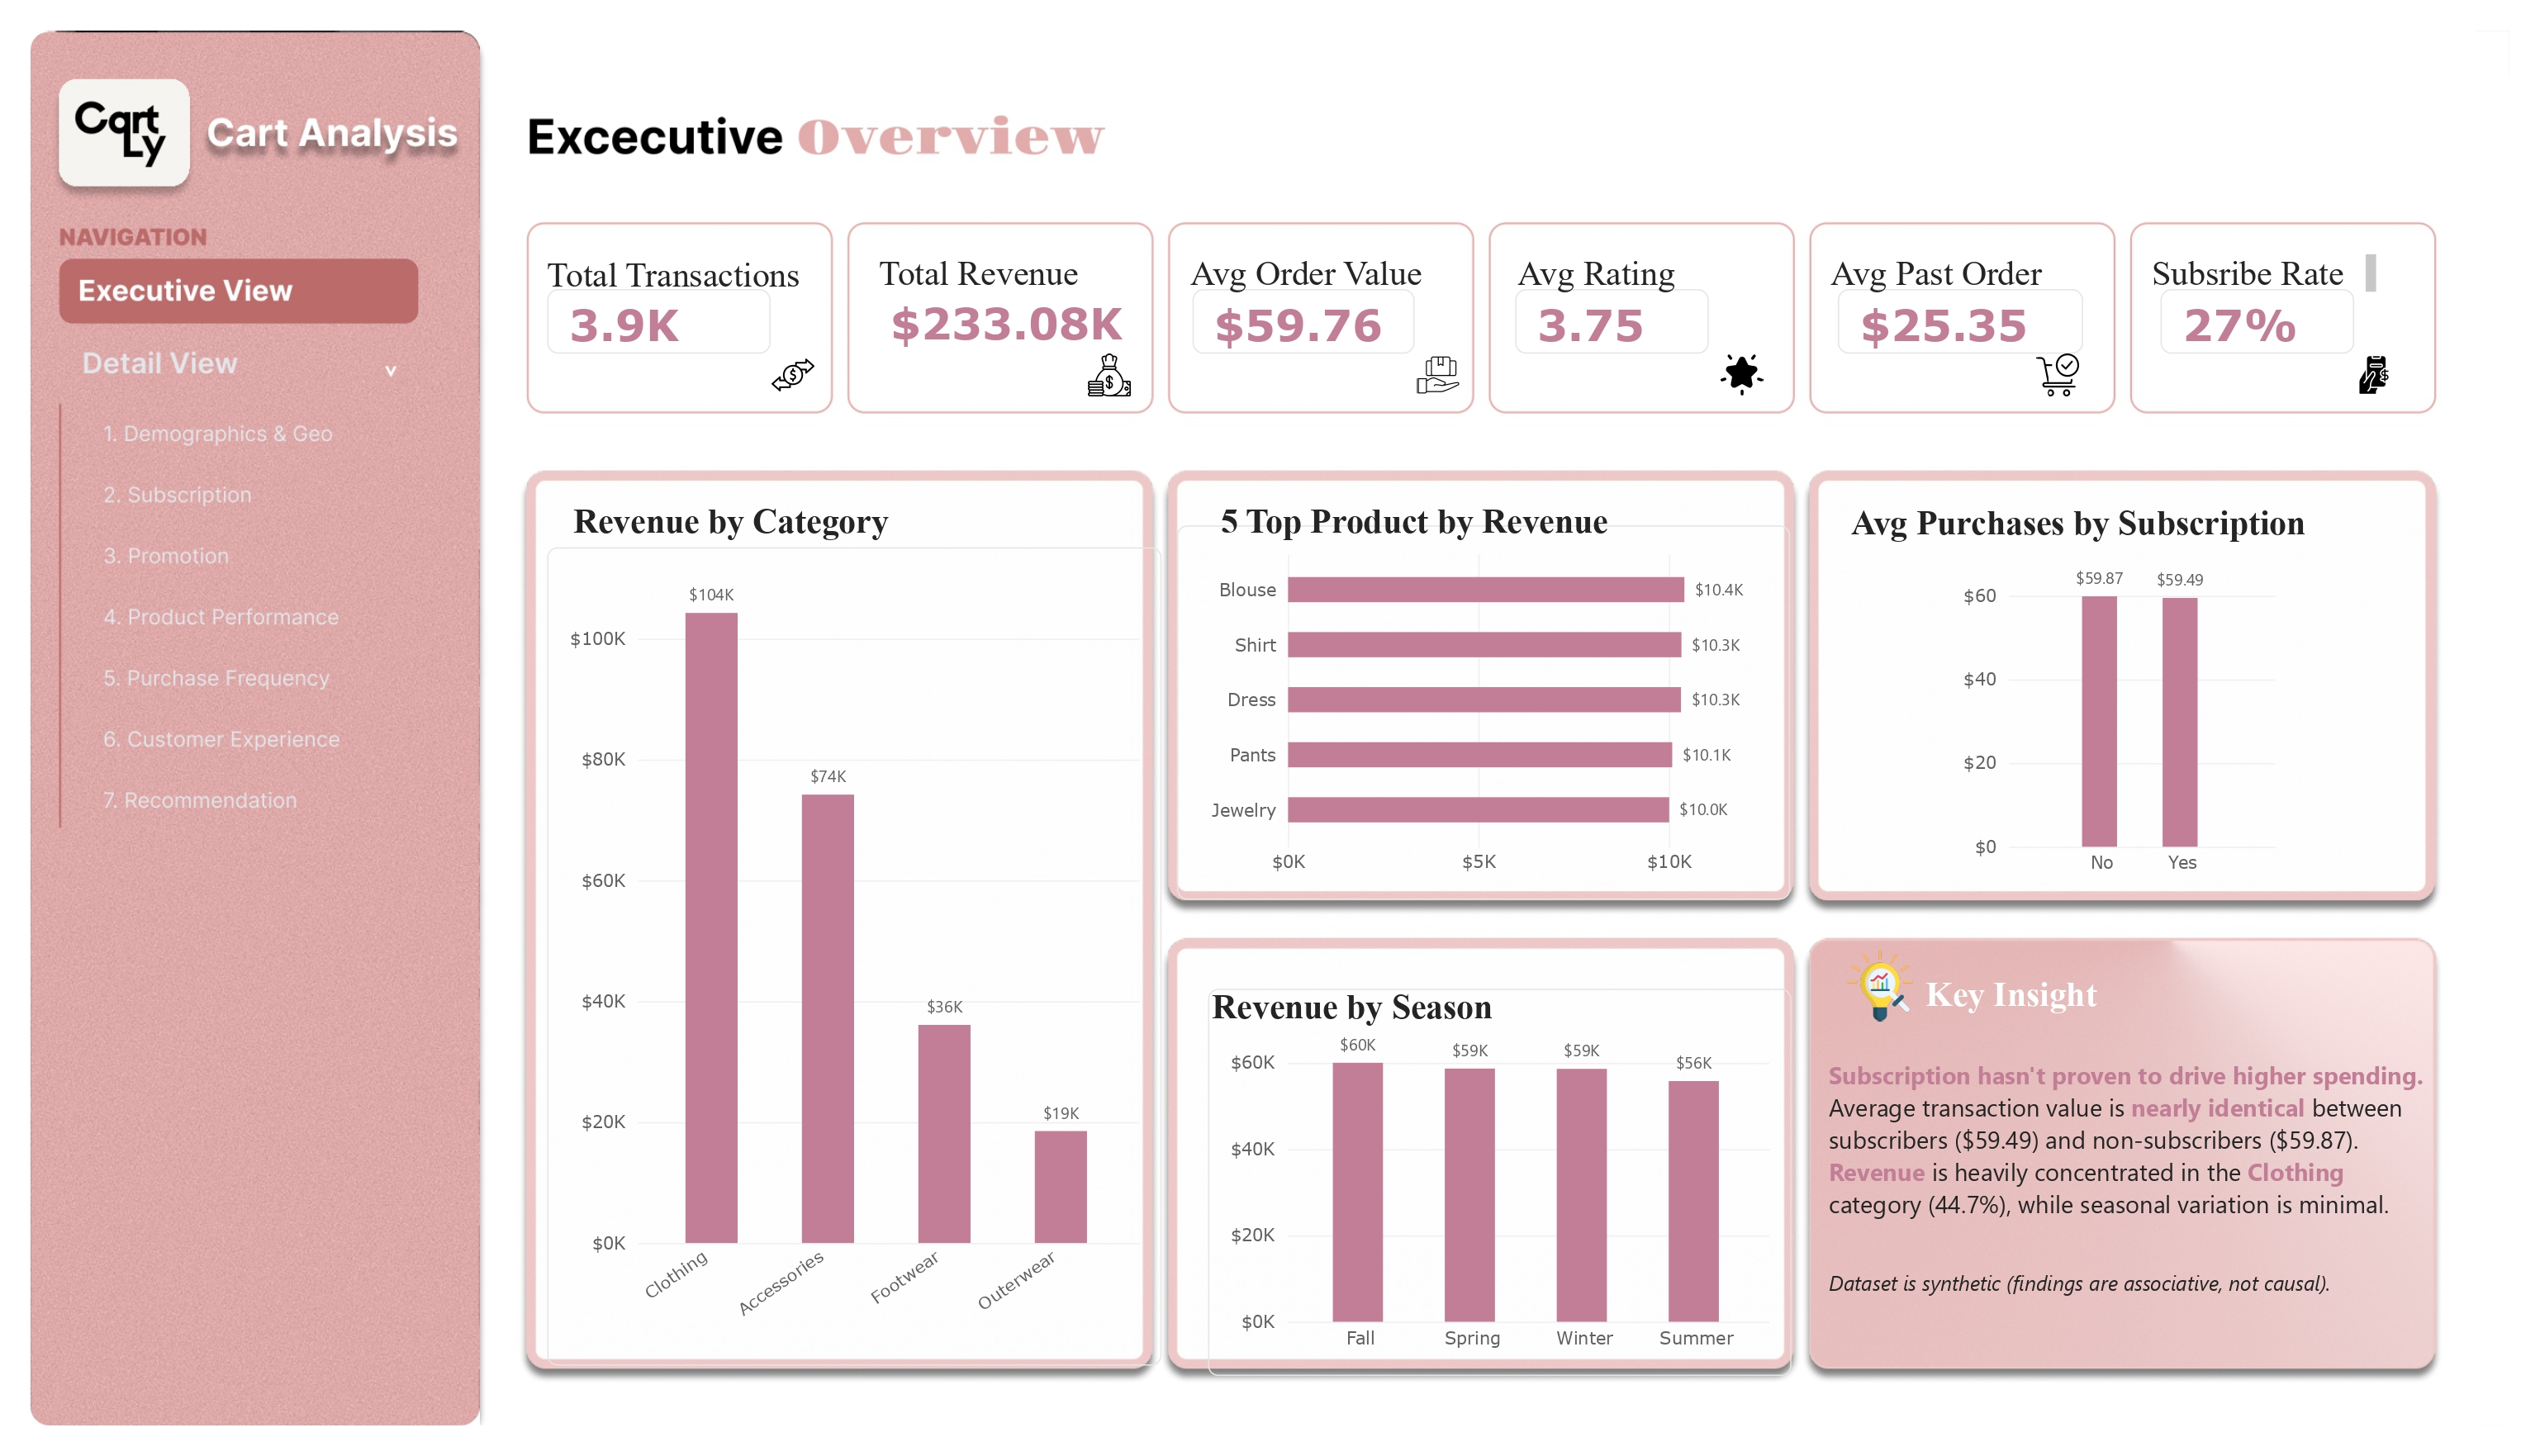

The dashboard page shown, as its layout file describes it:
{"tool":"powerbi","page":{"name":"Executive Overview","canvas":[1920,1080],"ordinal":0},"visuals":[{"type":"image","box":[0,0,1892.5,1080],"z":0},{"type":"actionButton","box":[21.8,172.9,280.9,52.7],"z":0,"group":"g1"},{"type":"textbox","box":[400,173.8,201.1,40],"z":1000},{"type":"actionButton","box":[21.9,231.2,281,52],"z":1000,"group":"g1"},{"type":"image","box":[0,0,348.2,1080],"z":2000},{"type":"actionButton","box":[40.9,287.7,260.5,46],"z":2000,"group":"g1"},{"type":"textbox","box":[657.3,173,170.9,35],"z":3000},{"type":"actionButton","box":[40.9,334.6,260.4,46.1],"z":3000,"group":"g1"},{"type":"cardVisual","fields":{"Data":["Sum(Customer_Shopping_Behavior_Clean_Update2.purchase_amount_usd)"]},"box":[650,200,250,50],"z":4000},{"type":"actionButton","box":[40.9,383.1,260,46.1],"z":4000,"group":"g1"},{"type":"cardVisual","fields":{"Data":["Count(Customer_Shopping_Behavior_Clean_Update2.customer_id)"]},"box":[400,200,172.9,50],"z":5000},{"type":"actionButton","box":[40.9,432.8,260,46],"z":5000,"group":"g1"},{"type":"cardVisual","fields":{"Data":["Avg(Customer_Shopping_Behavior_Clean_Update2.purchase_amount_usd)"]},"box":[900,200,172,50],"z":6000},{"type":"actionButton","box":[40.9,480.4,260,46],"z":6000,"group":"g1"},{"type":"textbox","box":[898,173,211,37],"z":7000},{"type":"actionButton","box":[40.9,526.4,260,46],"z":7000,"group":"g1"},{"type":"cardVisual","fields":{"Data":["Avg(Customer_Shopping_Behavior_Clean_Update2.previous_purchases)"]},"box":[1400,200,190,50],"z":8000},{"type":"actionButton","box":[40.9,572.5,260,46],"z":8000,"group":"g1"},{"type":"cardVisual","fields":{"Data":["Avg(Customer_Shopping_Behavior_Clean_Update2.review_rating)"]},"box":[1150,200,150,50],"z":9000},{"type":"textbox","box":[1152.2,173,181.1,37.8],"z":10000},{"type":"textbox","box":[1393.8,173,223.8,37],"z":11000},{"type":"cardVisual","fields":{"Data":["Customer_Shopping_Behavior_Clean_Update2.Subscription Rate"]},"box":[1650,200,150,50],"z":12000},{"type":"textbox","box":[1643.3,173,173.3,30],"z":13000},{"type":"image","box":[815,250,40.8,33.3],"z":14000},{"type":"image","box":[1305,250,40,33],"z":15000},{"type":"image","box":[1550,250,40,33],"z":16000},{"type":"columnChart","fields":{"Category":["Customer_Shopping_Behavior_Clean_Update2.category"],"Y":["Sum(Customer_Shopping_Behavior_Clean_Update2.purchase_amount_usd)"]},"box":[400,400,475.7,634.3],"z":17000},{"type":"barChart","fields":{"Category":["Customer_Shopping_Behavior_Clean_Update2.item_purchased"],"Y":["Sum(Customer_Shopping_Behavior_Clean_Update2.purchase_amount_usd)"]},"box":[888,383,475,290],"z":18000},{"type":"columnChart","fields":{"Category":["Customer_Shopping_Behavior_Clean_Update2.subscription_status"],"Y":["Avg(Customer_Shopping_Behavior_Clean_Update2.purchase_amount_usd)"]},"box":[1481,389,274,284],"z":19000},{"type":"columnChart","fields":{"Category":["Customer_Shopping_Behavior_Clean_Update2.season"],"Y":["Sum(Customer_Shopping_Behavior_Clean_Update2.purchase_amount_usd)"]},"box":[911.8,741.8,451.8,300],"z":20000},{"type":"image","box":[570,250,40,33],"z":21000},{"type":"image","box":[1795,250,40,33],"z":22000},{"type":"textbox","box":[420,365,300,52],"z":23000},{"type":"textbox","box":[915,365,313.8,36.2],"z":24000},{"type":"textbox","box":[915,741.4,300,34.3],"z":25000},{"type":"textbox","box":[1468,731,150,38.9],"z":26000},{"type":"image","box":[1405,709,55,61],"z":27000},{"type":"textbox","box":[1410,366,390,48],"z":28000},{"type":"textbox","box":[1393.3,795.6,465.6,215.6],"z":29000},{"type":"group","id":"g1","title":"Side Bar","box":[21.8,172.9,280.6,445.3],"z":30000},{"type":"shape","box":[1880,0,40,1080],"z":30001},{"type":"image","box":[1070,250,40,33],"z":30002}]}

Visuals, with their boxes on the page's 1920x1080 design canvas (x1, y1, x2, y2). These are canvas units, not pixel positions in the 2540x1456 screenshot, which may show the page scaled, cropped or inside an application window:
image: 0,0,1892,1080
actionButton: 22,173,303,226
textbox: 400,174,601,214
actionButton: 22,231,303,283
image: 0,0,348,1080
actionButton: 41,288,301,334
textbox: 657,173,828,208
actionButton: 41,335,301,381
cardVisual - Sum(Customer_Shopping_Behavior_Clean_Update2.purchase_amount_usd): 650,200,900,250
actionButton: 41,383,301,429
cardVisual - Count(Customer_Shopping_Behavior_Clean_Update2.customer_id): 400,200,573,250
actionButton: 41,433,301,479
cardVisual - Avg(Customer_Shopping_Behavior_Clean_Update2.purchase_amount_usd): 900,200,1072,250
actionButton: 41,480,301,526
textbox: 898,173,1109,210
actionButton: 41,526,301,572
cardVisual - Avg(Customer_Shopping_Behavior_Clean_Update2.previous_purchases): 1400,200,1590,250
actionButton: 41,572,301,618
cardVisual - Avg(Customer_Shopping_Behavior_Clean_Update2.review_rating): 1150,200,1300,250
textbox: 1152,173,1333,211
textbox: 1394,173,1618,210
cardVisual - Customer_Shopping_Behavior_Clean_Update2.Subscription Rate: 1650,200,1800,250
textbox: 1643,173,1817,203
image: 815,250,856,283
image: 1305,250,1345,283
image: 1550,250,1590,283
columnChart - Customer_Shopping_Behavior_Clean_Update2.category x Sum(Customer_Shopping_Behavior_Clean_Update2.purchase_amount_usd): 400,400,876,1034
barChart - Customer_Shopping_Behavior_Clean_Update2.item_purchased x Sum(Customer_Shopping_Behavior_Clean_Update2.purchase_amount_usd): 888,383,1363,673
columnChart - Customer_Shopping_Behavior_Clean_Update2.subscription_status x Avg(Customer_Shopping_Behavior_Clean_Update2.purchase_amount_usd): 1481,389,1755,673
columnChart - Customer_Shopping_Behavior_Clean_Update2.season x Sum(Customer_Shopping_Behavior_Clean_Update2.purchase_amount_usd): 912,742,1364,1042
image: 570,250,610,283
image: 1795,250,1835,283
textbox: 420,365,720,417
textbox: 915,365,1229,401
textbox: 915,741,1215,776
textbox: 1468,731,1618,770
image: 1405,709,1460,770
textbox: 1410,366,1800,414
textbox: 1393,796,1859,1011
"Side Bar" group: 22,173,302,618
shape: 1880,0,1920,1080
image: 1070,250,1110,283
